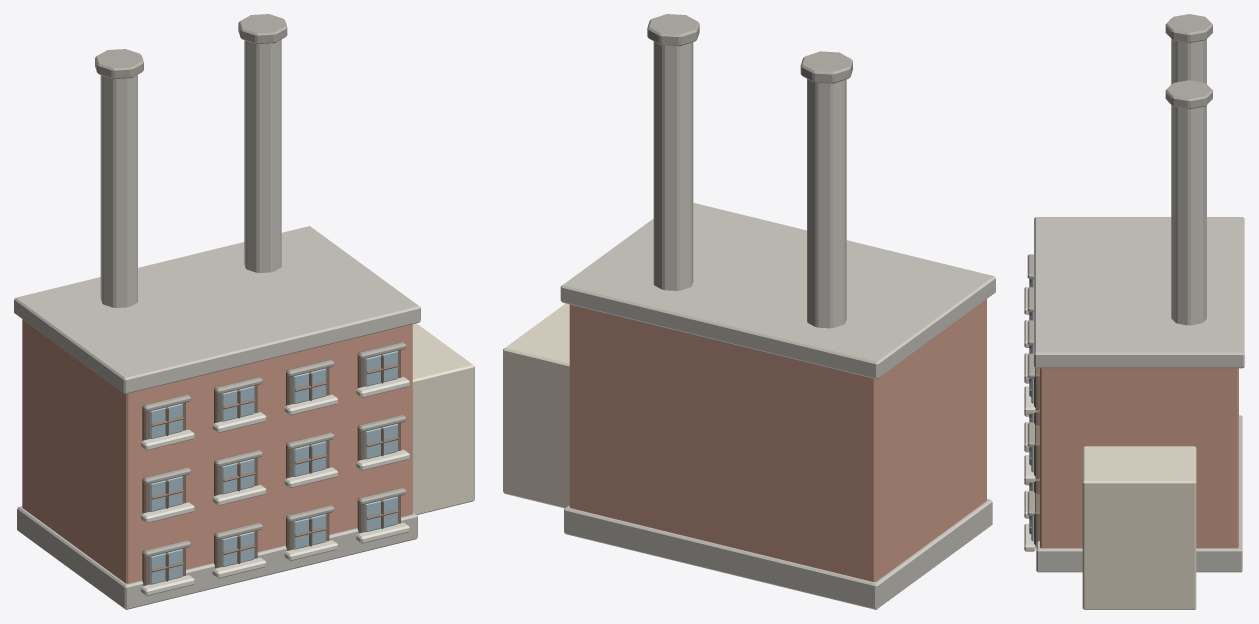
The model's file is factory_b.glb.
3 renders of one model, left to right at view 1: azimuth 30°, elevation 25°; view 2: azimuth 150°, elevation 25°; view 3: azimuth 270°, elevation 25°, orthographic. The views are drawn at different scales.
Parts seen in each view (by area): view 1: wall, parapet, office, chimney.001, chimney, skirt, chcap.001, chcap, wglass.001, wglass.005, wglass.009, wglass.006 (+8 smaller); view 2: wall, parapet, skirt, office, chimney.001, chimney, chcap.001, chcap; view 3: parapet, wall, office, chimney.001, skirt, chimney, chcap.001, chcap.
Boxes of the visible parts, x1,y1,x2,y2 form: wall: (22,319,412,583); parapet: (14,226,420,394); office: (412,323,474,514); chimney.001: (244,39,281,272); chimney: (100,74,137,307); skirt: (17,506,417,609); chcap.001: (238,14,287,44); chcap: (95,49,143,79); wglass.001: (221,531,254,566); wglass.005: (221,459,254,494); wglass.009: (221,386,254,421); wglass.006: (293,441,326,476); wall: (569,299,986,581); parapet: (560,203,995,379); skirt: (564,499,992,609); office: (503,303,569,508); chimney.001: (653,41,693,290); chimney: (807,79,846,328); chcap.001: (647,14,699,46); chcap: (800,51,852,83); parapet: (1034,217,1244,368); wall: (1040,368,1238,548); office: (1082,446,1196,609); chimney.001: (1171,105,1206,325); skirt: (1036,415,1242,572); chimney: (1171,39,1206,84); chcap.001: (1165,80,1212,109); chcap: (1165,14,1212,43).
Size of the model in its own units: 2.89 by 3.48 by 1.55.
